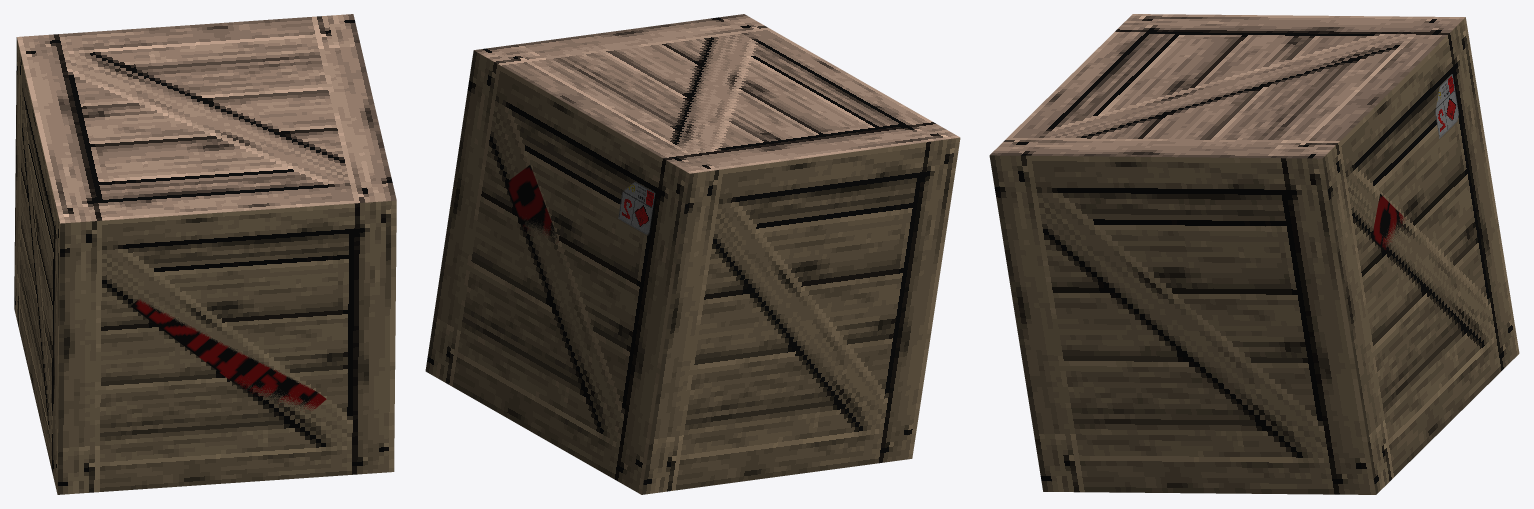
File: primary_129.glb
3 renders of one model, left to right at view 1: azimuth 30°, elevation 25°; view 2: azimuth 150°, elevation 25°; view 3: azimuth 270°, elevation 25°, orthographic. The views are drawn at different scales.
Visible parts, largest first — view 1: Object; view 2: Object; view 3: Object.
Boxes of the visible parts, x1,y1,x2,y2 form: Object: (14,14,396,494); Object: (425,14,960,494); Object: (989,14,1519,494).
Size of the model in its own units: 1.4 by 1.16 by 1.45.
7 materials, 7 textured.
